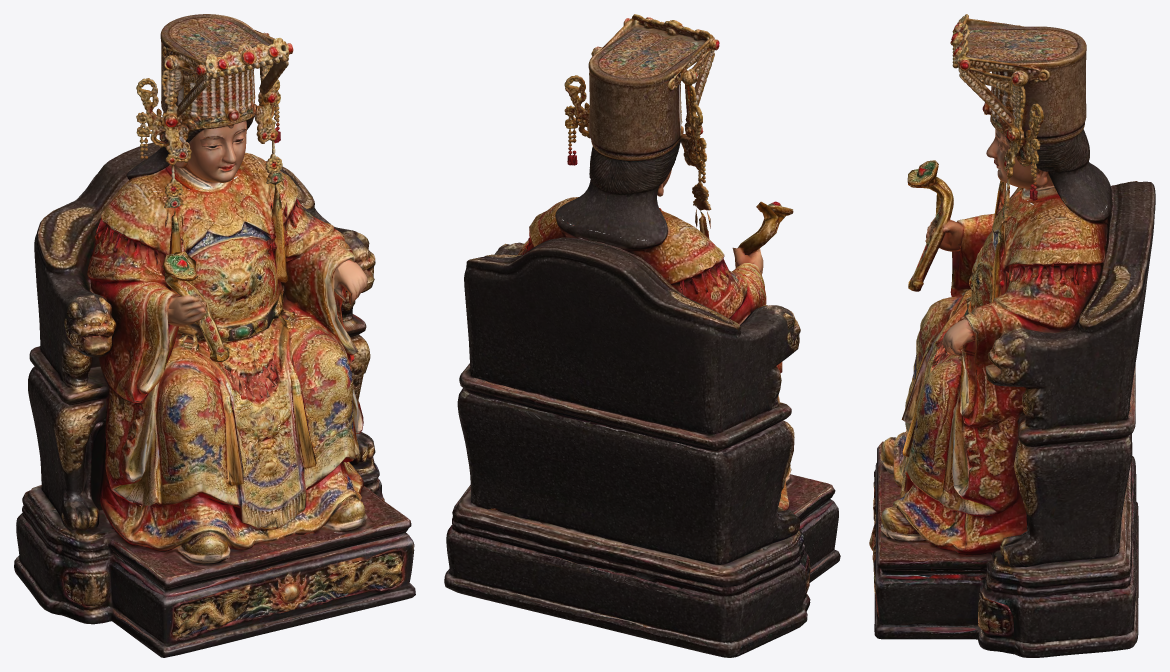
Rendered from mazu.glb.
3 views of the same model, side by side, from view 1: azimuth 30°, elevation 25°; view 2: azimuth 150°, elevation 25°; view 3: azimuth 270°, elevation 25° (orthographic).
Visible parts, largest first — view 1: tripo_node_0619be64-c92b-48f9-a2ee-4e5d1e2fac6d (×2); view 2: tripo_node_0619be64-c92b-48f9-a2ee-4e5d1e2fac6d (×2); view 3: tripo_node_0619be64-c92b-48f9-a2ee-4e5d1e2fac6d (×2).
Boxes of the visible parts, left/top/right/bottom form: tripo_node_0619be64-c92b-48f9-a2ee-4e5d1e2fac6d (×2): left=14, top=14, right=415, bottom=657; tripo_node_0619be64-c92b-48f9-a2ee-4e5d1e2fac6d (×2): left=444, top=14, right=840, bottom=657; tripo_node_0619be64-c92b-48f9-a2ee-4e5d1e2fac6d (×2): left=869, top=14, right=1155, bottom=657.
Bounding box in the file's own units: 0.6247 × 0.9804 × 0.4636.
Materials: 1 (1 with a texture image).
